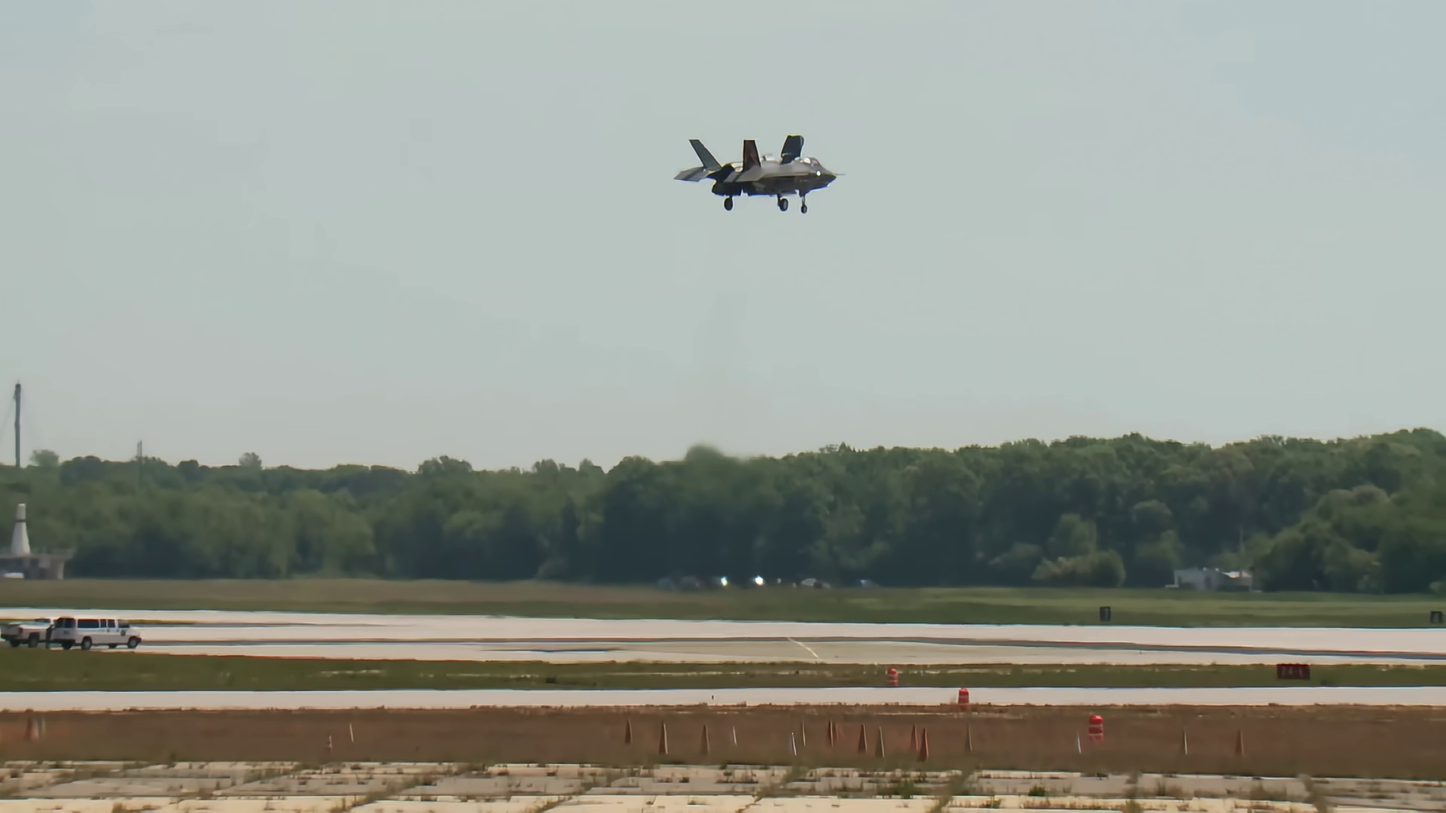F35: (665, 125, 857, 222)
